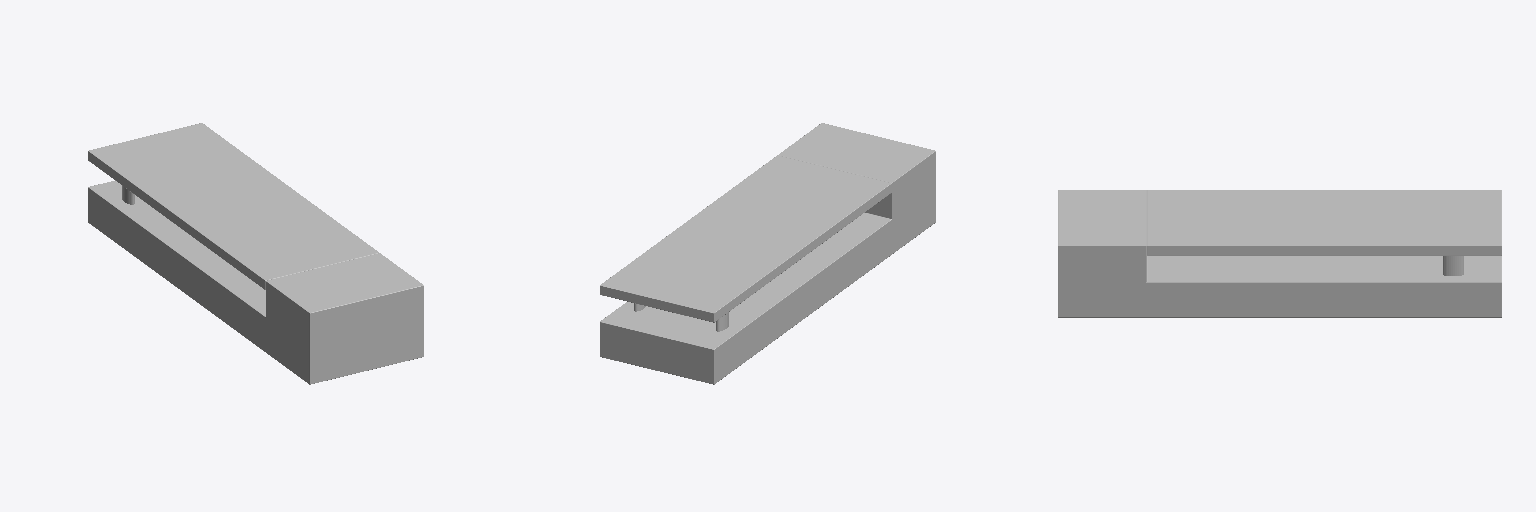
The model's file is Desk_Cube.obj.
3 views of the same model, side by side, from view 1: azimuth 30°, elevation 25°; view 2: azimuth 150°, elevation 25°; view 3: azimuth 270°, elevation 25° (orthographic).
Visible parts, largest first — view 1: Coffee_Table; view 2: Coffee_Table; view 3: Coffee_Table.
Boxes of the visible parts, x1,y1,x2,y2 form: Coffee_Table: [88, 123, 423, 384]; Coffee_Table: [600, 123, 935, 384]; Coffee_Table: [1058, 190, 1501, 317].
Bounding box in the file's own units: 0.7547 × 0.479 × 2.53.